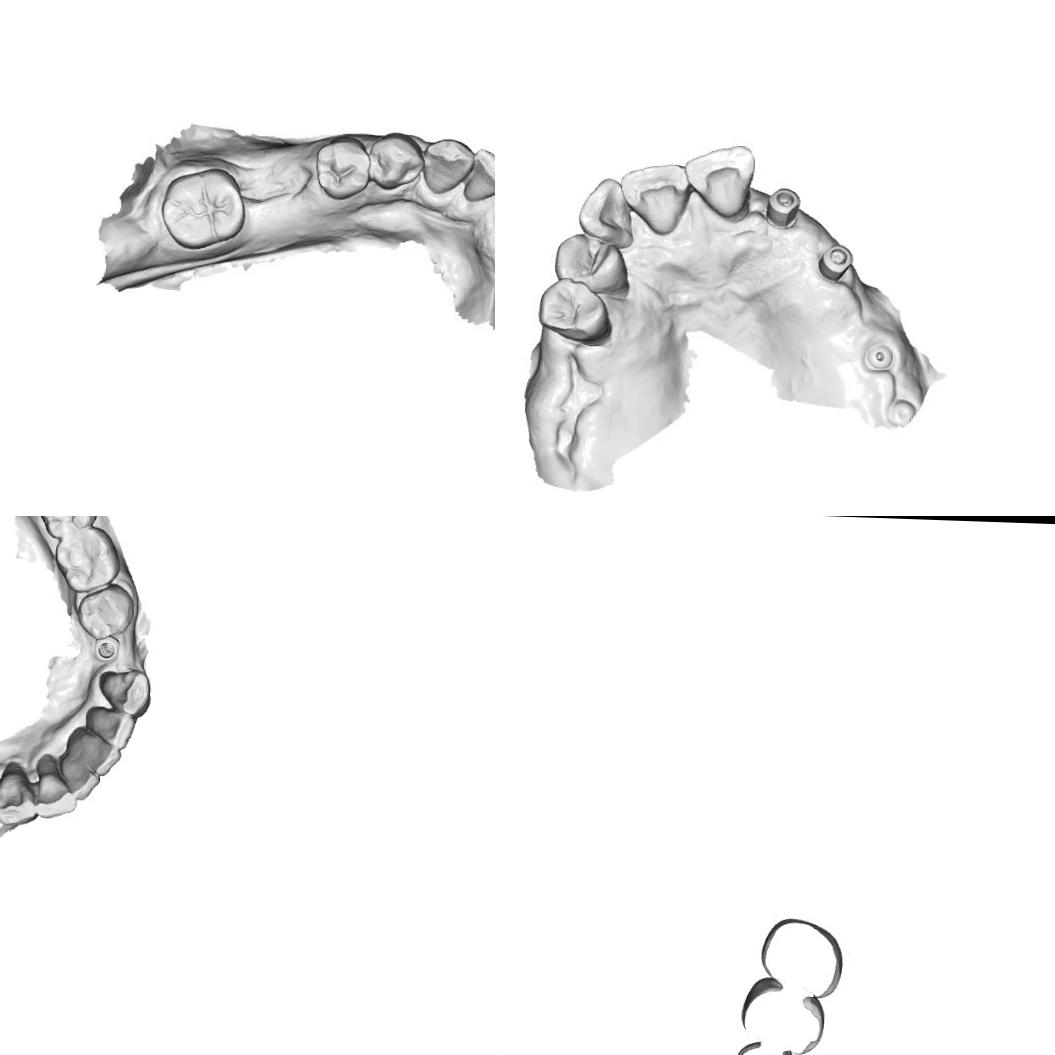canine: (576, 176, 634, 248), (420, 136, 476, 198), (97, 668, 152, 719), (0, 760, 40, 828)
implant: (763, 184, 801, 230), (819, 240, 854, 284), (863, 341, 895, 372), (92, 634, 120, 664)
incisor: (621, 160, 692, 236), (685, 143, 755, 219), (32, 754, 78, 820), (66, 726, 122, 776), (84, 705, 136, 750), (56, 751, 102, 801), (463, 146, 495, 200)
molar: (157, 166, 247, 250), (52, 523, 120, 594), (36, 516, 98, 540)
premolar: (538, 276, 614, 346), (551, 232, 634, 294), (310, 134, 370, 202), (366, 130, 427, 190), (75, 582, 136, 641)
